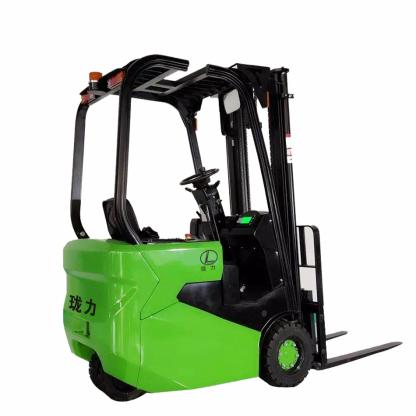forklift: (60, 48, 404, 404)
